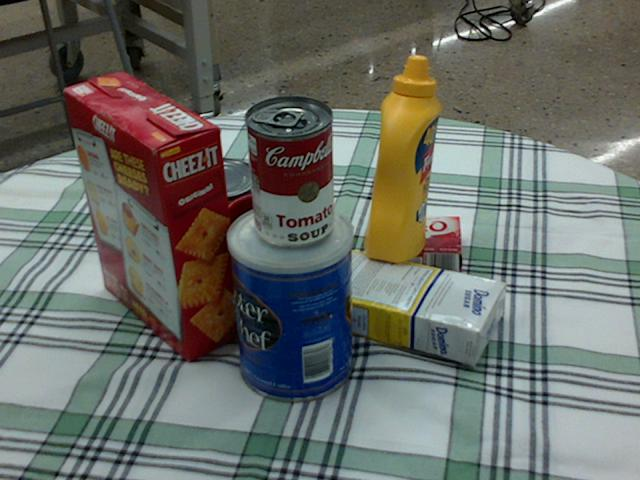cracker_box: (62, 74, 243, 359)
gelatin_box: (372, 214, 459, 274)
master_chef_can: (226, 200, 354, 402)
mug: (216, 191, 312, 302)
mustard_bottle: (364, 55, 441, 262)
potted_meat_can: (152, 178, 268, 268)
sugar_box: (298, 245, 506, 362)
tomato_soup_can: (242, 94, 332, 246)
tuna_fish_can: (176, 157, 259, 225)
